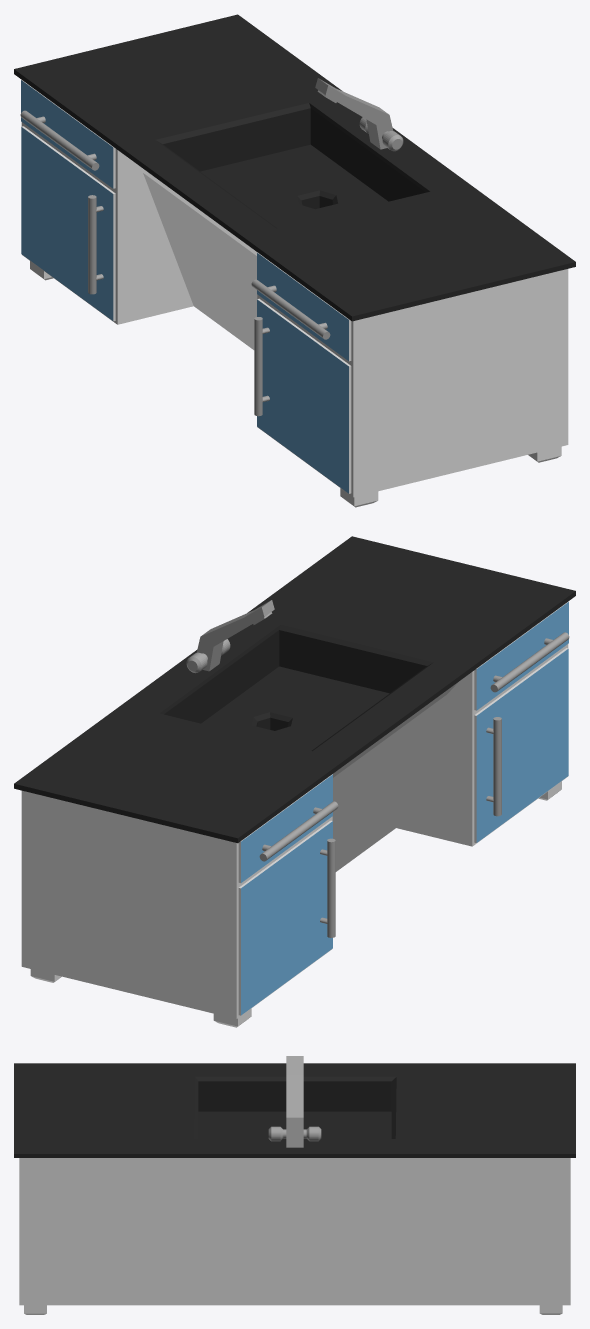
Rendered from Lab_Table_2.fbx.
3 views of the same model, one above another, from view 1: azimuth 30°, elevation 25°; view 2: azimuth 150°, elevation 25°; view 3: azimuth 270°, elevation 25° (orthographic). The views are drawn at different scales.
Visible parts, largest first — view 1: Table; view 2: Table; view 3: Table.
Boxes of the visible parts, x1,y1,x2,y2 form: Table: (14, 14, 575, 507); Table: (14, 536, 575, 1027); Table: (14, 1056, 575, 1314).
Bounding box in the file's own units: 380 × 427 × 946.
